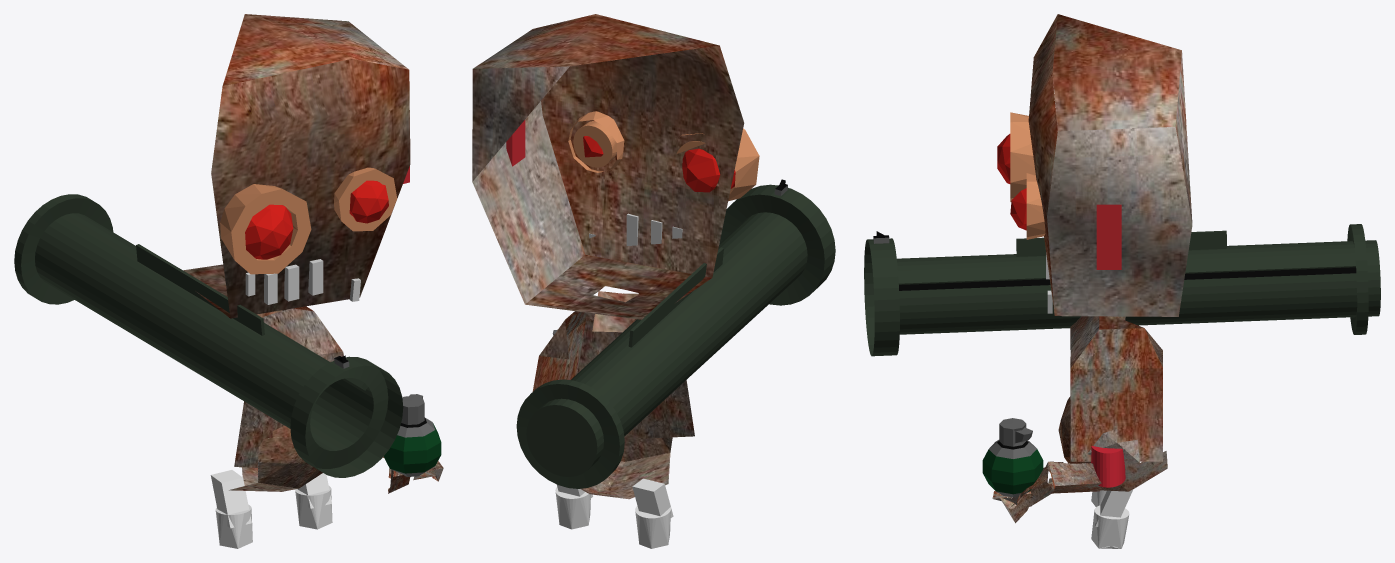
Rendered from VIDA2.fbx.
3 views of the same model, side by side, from view 1: azimuth 30°, elevation 25°; view 2: azimuth 150°, elevation 25°; view 3: azimuth 270°, elevation 25° (orthographic). The views are drawn at different scales.
Visible parts, largest first — view 1: kaf.001, BAZOOKA.000, Cylinder.005, Cube.005, Sphere.005, GRANADA.001, Sphere.004, Cylinder.004, Cube.000, Sphere.003, Cylinder.009, Cylinder.008 (+3 smaller); view 2: kaf.001, BAZOOKA.000, Cube.005, Sphere.005, Cylinder.004, Cylinder.005, Sphere.004, Cube.000, Cylinder.008, Cylinder.009, kadis.002; view 3: kaf.001, BAZOOKA.000, Cube.005, GRANADA.001, Cube.004, Sphere.005, kadis.002, Cylinder.005, Cylinder.002, Cylinder.009, Cylinder.004, Cube.000.
Part boxes in pixels (x1,y1,x2,y2): kaf.001: [183, 14, 410, 318]; BAZOOKA.000: [14, 194, 403, 477]; Cylinder.005: [220, 184, 311, 274]; Cube.005: [234, 306, 343, 467]; Sphere.005: [229, 425, 322, 491]; GRANADA.001: [384, 394, 441, 476]; Sphere.004: [245, 204, 293, 259]; Cylinder.004: [334, 167, 397, 231]; Cube.000: [210, 470, 331, 528]; Sphere.003: [349, 180, 388, 223]; Cylinder.009: [295, 486, 332, 529]; Cylinder.008: [215, 504, 252, 548]; kaf.001: [472, 14, 744, 332]; BAZOOKA.000: [516, 179, 835, 488]; Cube.005: [532, 311, 694, 438]; Sphere.005: [580, 408, 672, 499]; Cylinder.004: [568, 111, 624, 172]; Cylinder.005: [676, 128, 759, 201]; Sphere.004: [682, 148, 735, 192]; Cube.000: [556, 478, 673, 518]; Cylinder.008: [635, 506, 671, 548]; Cylinder.009: [555, 487, 590, 529]; kadis.002: [506, 120, 525, 166]; kaf.001: [1028, 14, 1192, 320]; BAZOOKA.000: [864, 224, 1380, 356]; Cube.005: [1070, 316, 1162, 461]; GRANADA.001: [982, 418, 1043, 497]; Cube.004: [992, 461, 1102, 523]; Sphere.005: [1058, 396, 1167, 491]; kadis.002: [1096, 204, 1121, 269]; Cylinder.005: [1010, 112, 1035, 201]; Cylinder.002: [1091, 446, 1125, 487]; Cylinder.009: [1091, 505, 1129, 548]; Cylinder.004: [1026, 173, 1045, 239]; Cube.000: [1095, 489, 1133, 526].
Bounding box in the file's own units: 195 × 350 × 342.
